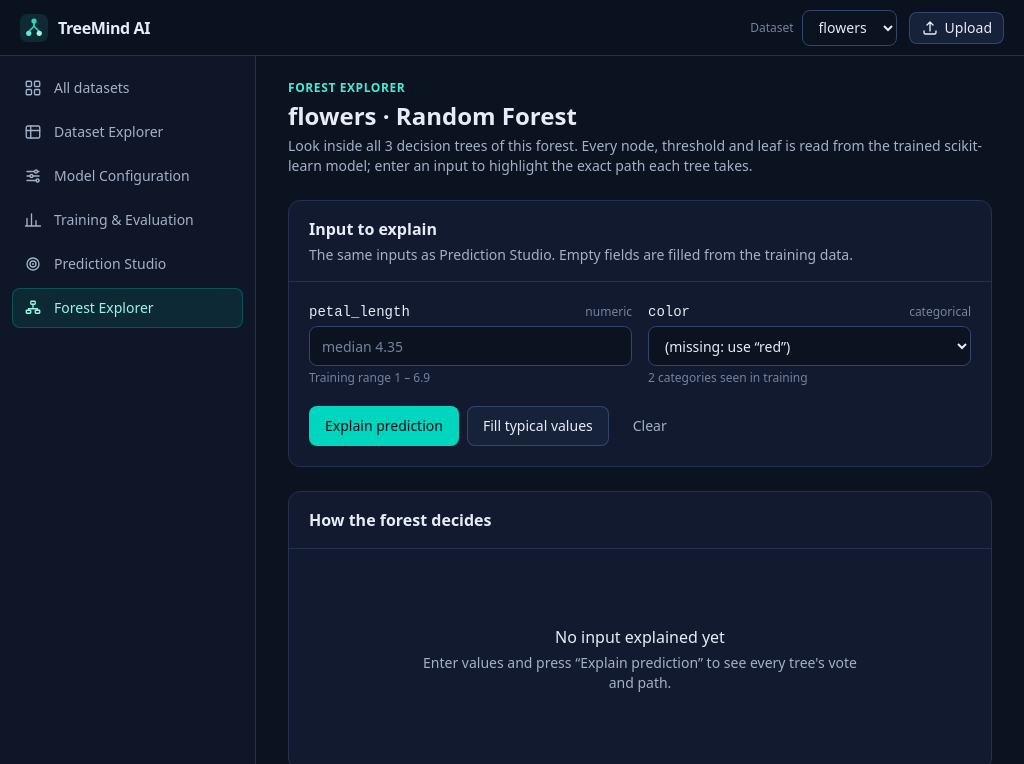
Test: Forest Explorer › explains a regression forest as the mean of its trees
Step 1. Click the button "Explain prediction" → (384,426), box [309,406,459,446]
(page scrolled)
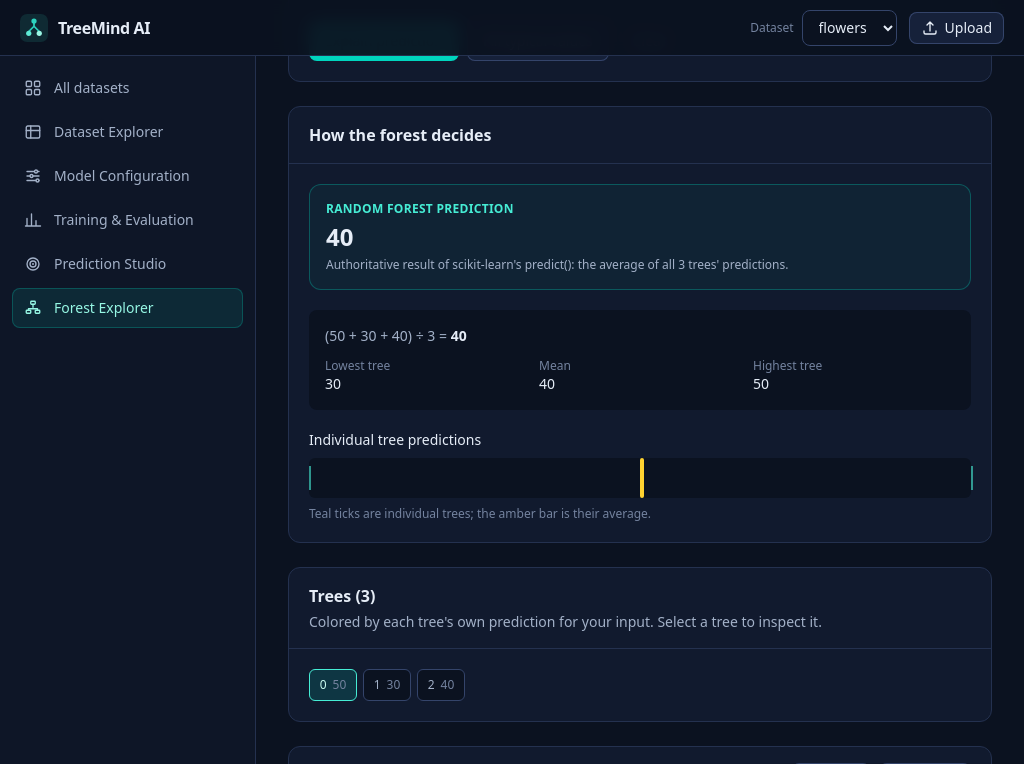
Check: the text with test id "forest-prediction" reads "40", box [326,220,354,253]
Check: the text "(50 + 30 + 40) ÷ 3 = 40" is shown, box [325,326,467,345]
Check: the text "50" below "Highest tree" is shown, box [753,374,769,393]
